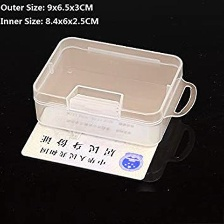plastic_box: (25, 30, 202, 152)
